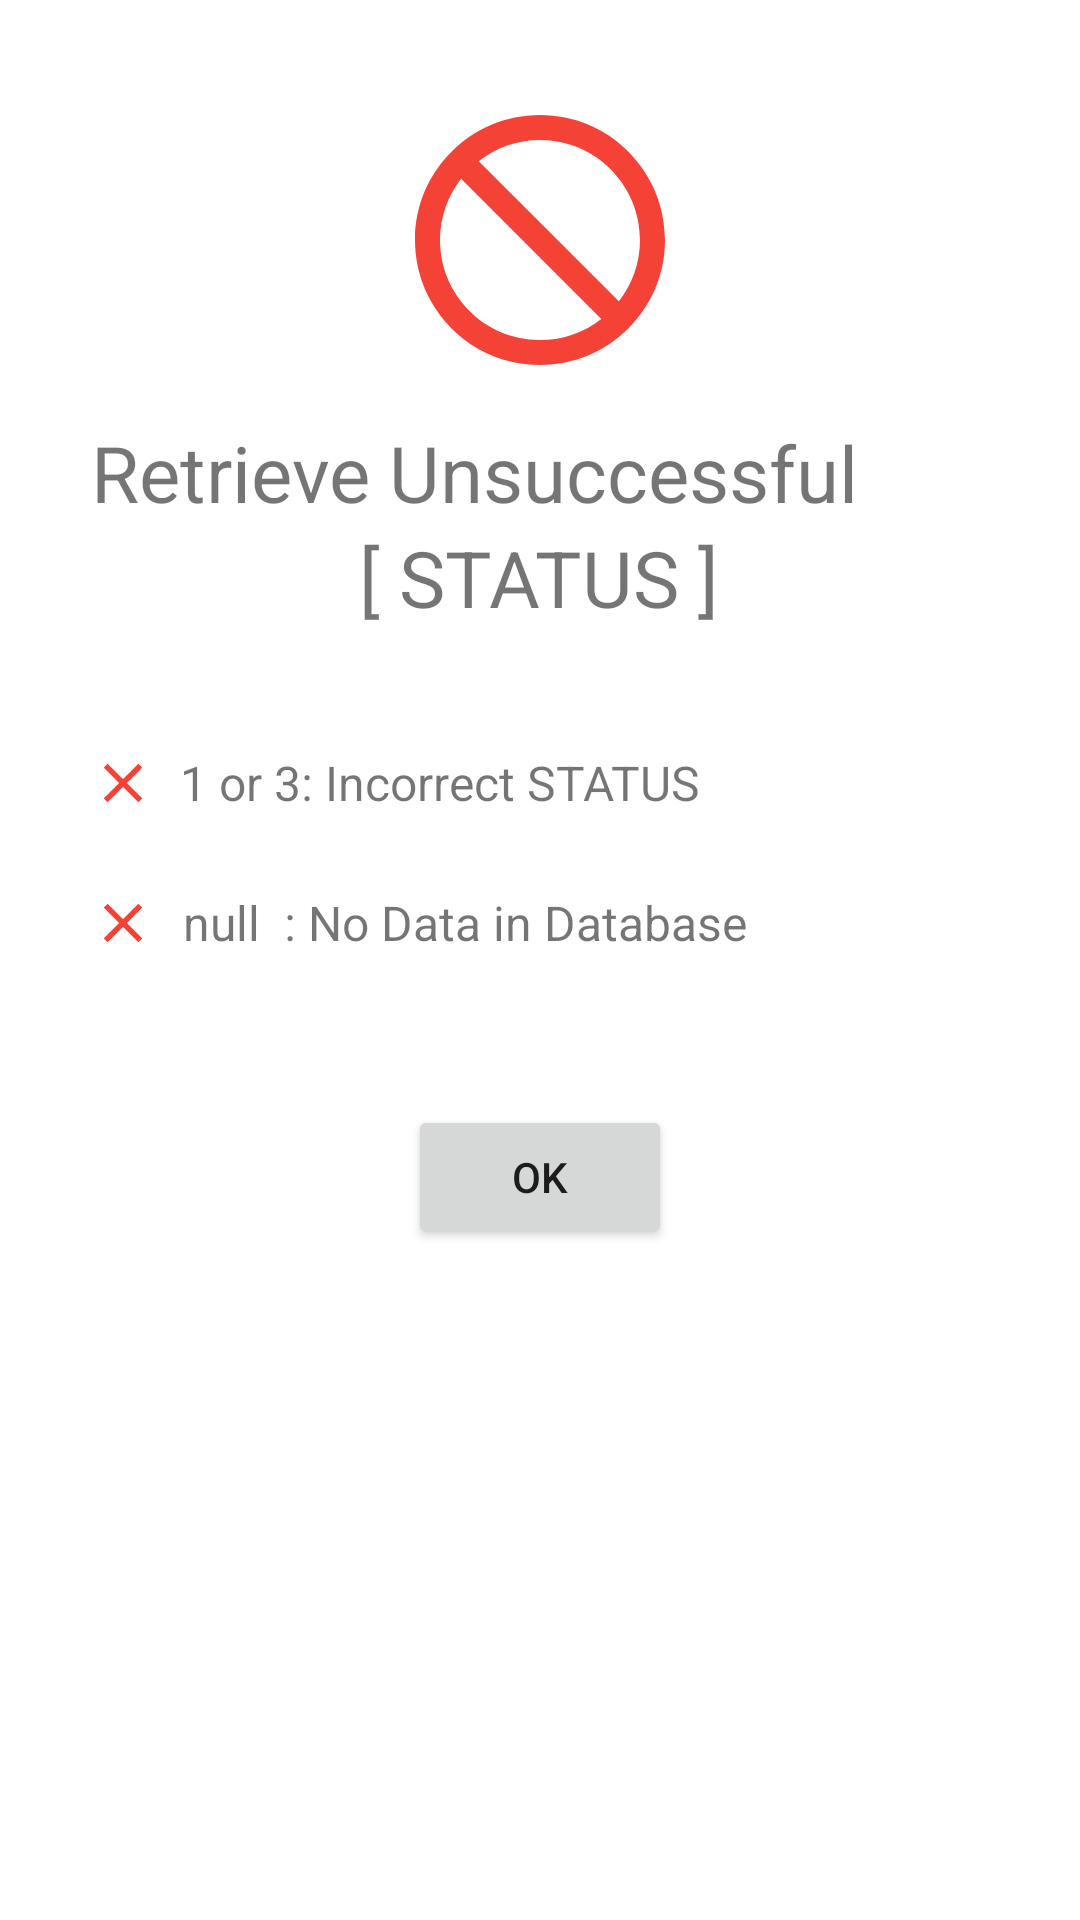

Icon click points for this 1080×1920 phone screenshot, format [x,y]:
close: [123,783], [123,923]
not interested: [540,240]
